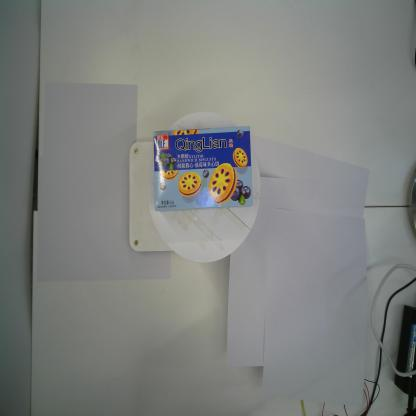Dessert: (153, 125, 253, 211)
